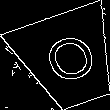O_S: (36, 28, 101, 91)
